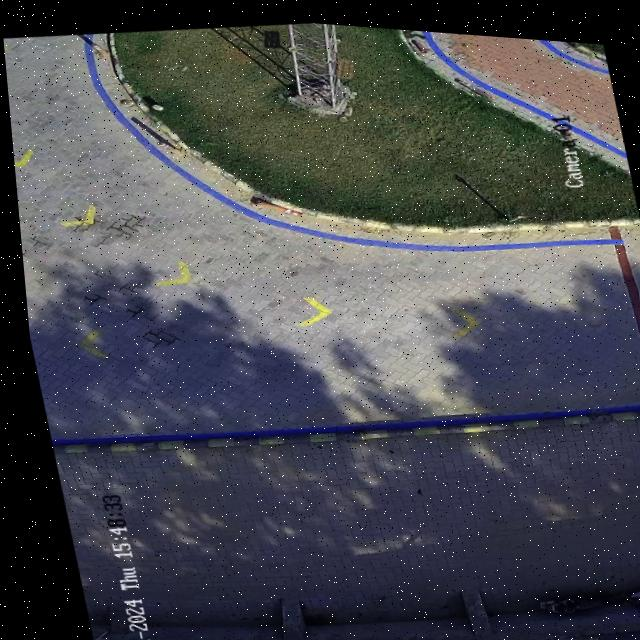No Car: (3, 17, 640, 640)
